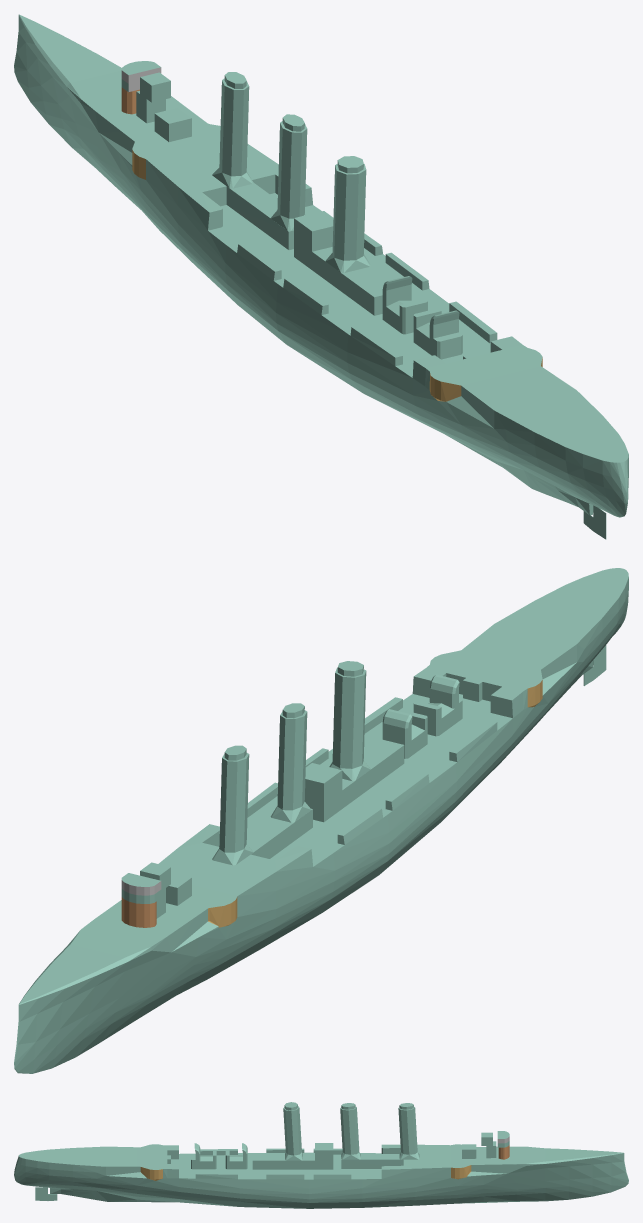
Rendered from PGSC103_armor.glb.
3 views of the same model, one above another, from view 1: azimuth 30°, elevation 25°; view 2: azimuth 150°, elevation 25°; view 3: azimuth 270°, elevation 25° (orthographic). The views are drawn at different scales.
Visible parts, largest first — view 1: armor; view 2: armor; view 3: armor.
Part boxes in pixels (left/top/right/bottom): armor: left=14, top=14, right=628, bottom=539; armor: left=14, top=568, right=628, bottom=1073; armor: left=14, top=1102, right=628, bottom=1208.
Size of the model in its own units: 21.4 by 34.82 by 200.
